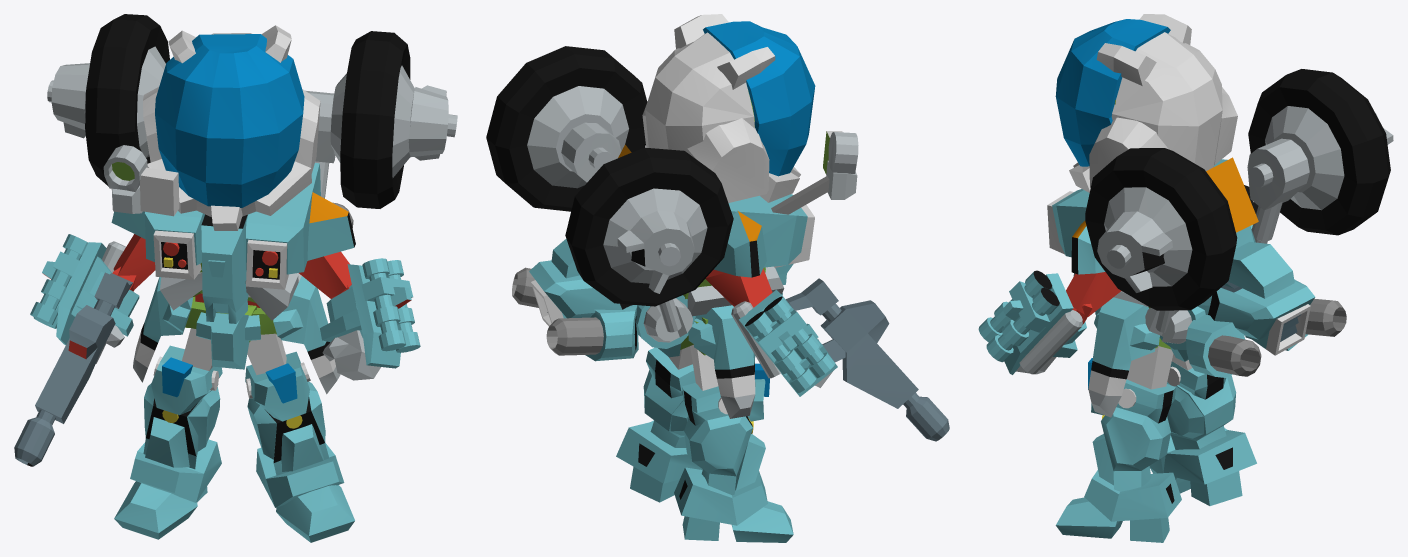
3 renders of one model, left to right at view 1: azimuth 30°, elevation 25°; view 2: azimuth 150°, elevation 25°; view 3: azimuth 270°, elevation 25°, orthographic. The views are drawn at different scales.
Parts seen in each view (by area): view 1: node_MeshObject227172352-PolyPaper3, node_MeshObject1371330560-PolyPaper5; view 2: node_MeshObject227172352-PolyPaper3, node_MeshObject1371330560-PolyPaper5; view 3: node_MeshObject227172352-PolyPaper3, node_MeshObject1371330560-PolyPaper5.
Part boxes in pixels (x1,y1,x2,y2): node_MeshObject227172352-PolyPaper3: (14, 14, 420, 542); node_MeshObject1371330560-PolyPaper5: (35, 31, 457, 539); node_MeshObject227172352-PolyPaper3: (512, 14, 949, 502); node_MeshObject1371330560-PolyPaper5: (486, 32, 918, 542); node_MeshObject227172352-PolyPaper3: (978, 14, 1393, 542); node_MeshObject1371330560-PolyPaper5: (1019, 32, 1301, 505).
Size of the model in its own units: 1.2 by 1.28 by 1.
